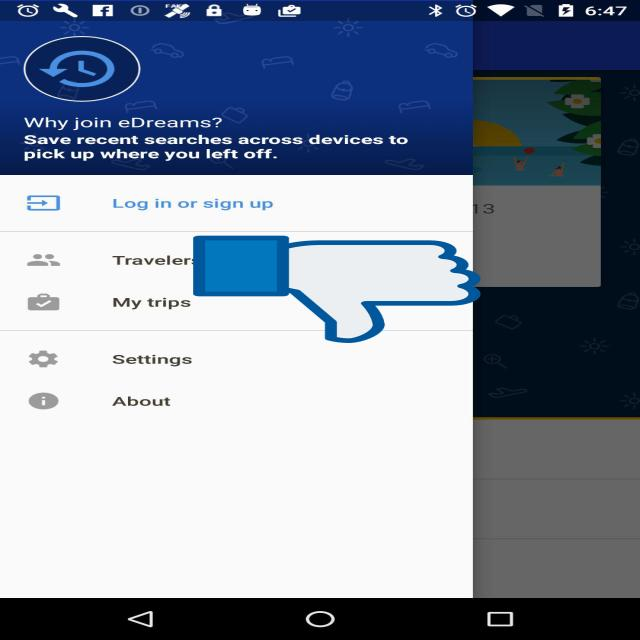obstruction: (193, 234, 481, 346)
